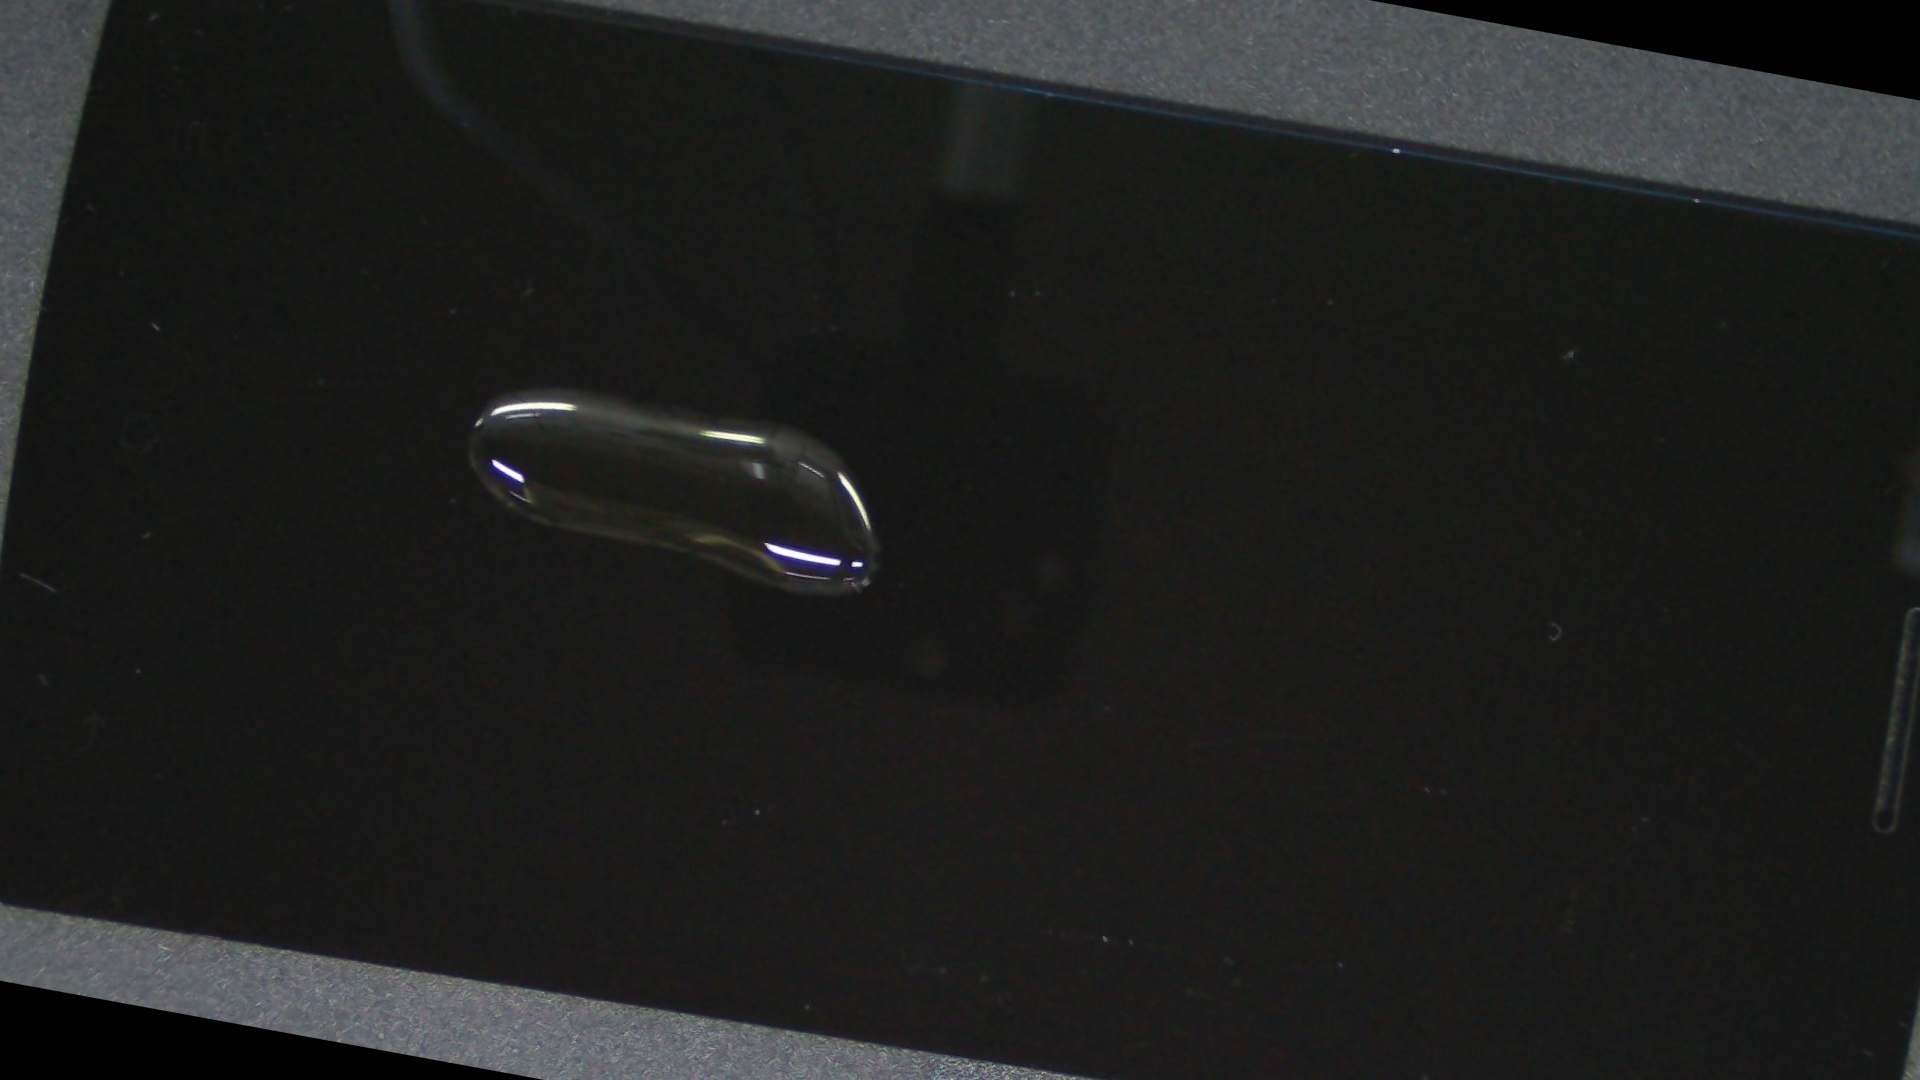oil: (305, 87, 1242, 753)
